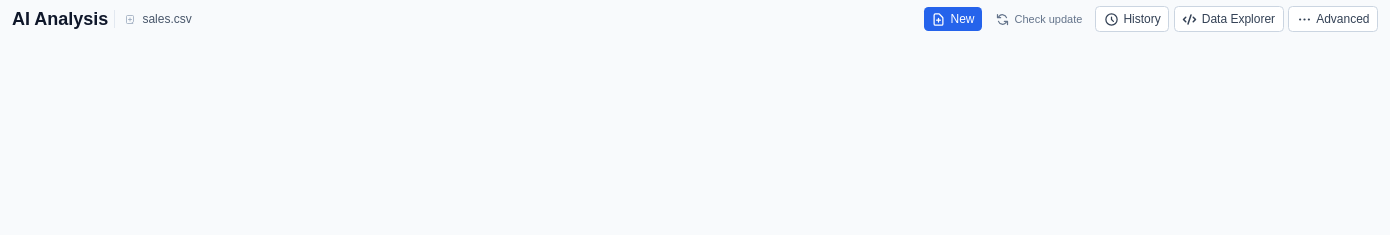
Test case: end user mode UI surfaces › keeps the complete analysis header on one horizontally contained row
This screenshot has width=1390, height=235.
Expected: the menu item "Change goal" is not shown
Click the button "Advanced" at (1333, 19), box [1288,6,1378,32]
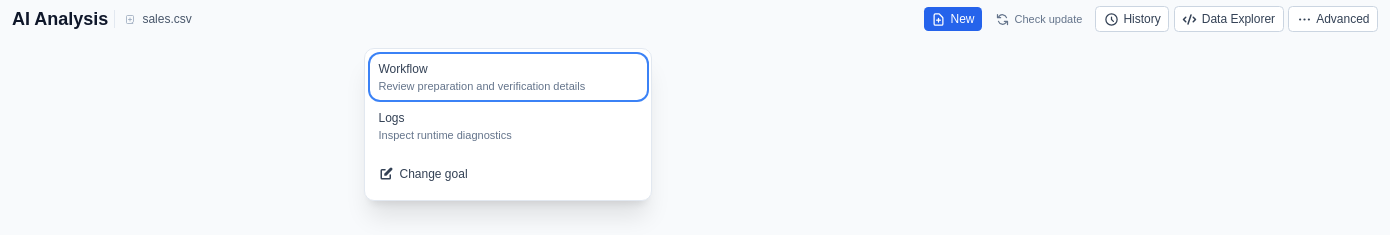
Press Escape
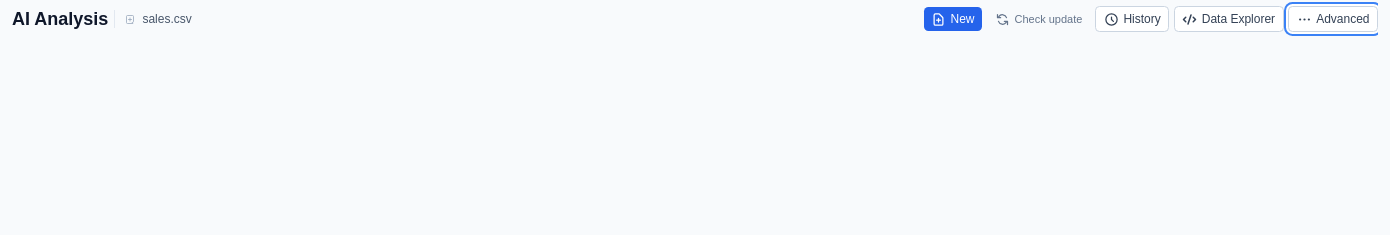
Expected: the menu item "Change goal" is gone
